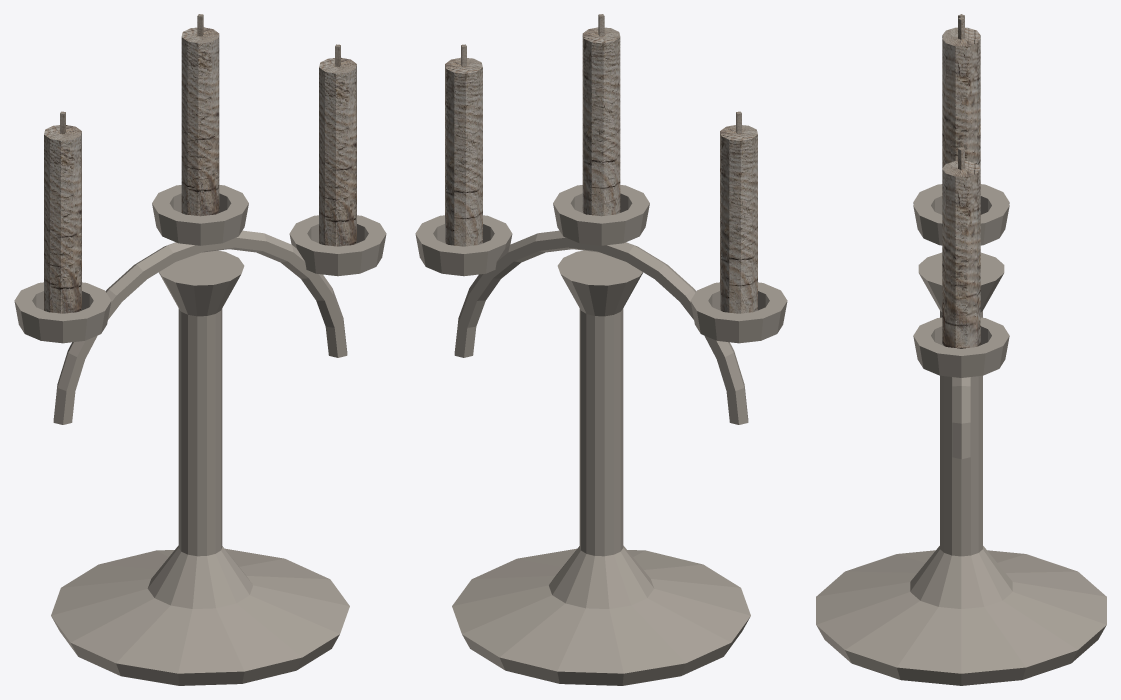
File: table-candelabra-v01.glb
The picture shows the model from 3 angles, left to right: view 1: azimuth 30°, elevation 25°; view 2: azimuth 150°, elevation 25°; view 3: azimuth 270°, elevation 25°; orthographic projection.
Parts seen in each view (by area): view 1: table-candelabra; view 2: table-candelabra; view 3: table-candelabra.
Boxes of the visible parts, <box> form: table-candelabra: <box>14,14,386,685</box>; table-candelabra: <box>415,14,787,685</box>; table-candelabra: <box>816,14,1106,685</box>.
Bounding box in the file's own units: 0.47 × 0.765 × 0.3315.
Materials: 3 (3 with a texture image).
